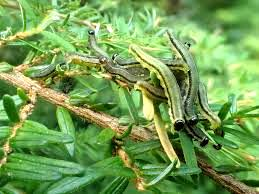Caterpillar: (129, 40, 184, 133), (165, 28, 199, 124), (199, 77, 227, 136), (97, 57, 136, 82), (133, 82, 169, 104), (182, 120, 209, 148), (87, 30, 110, 60), (32, 61, 67, 79)
